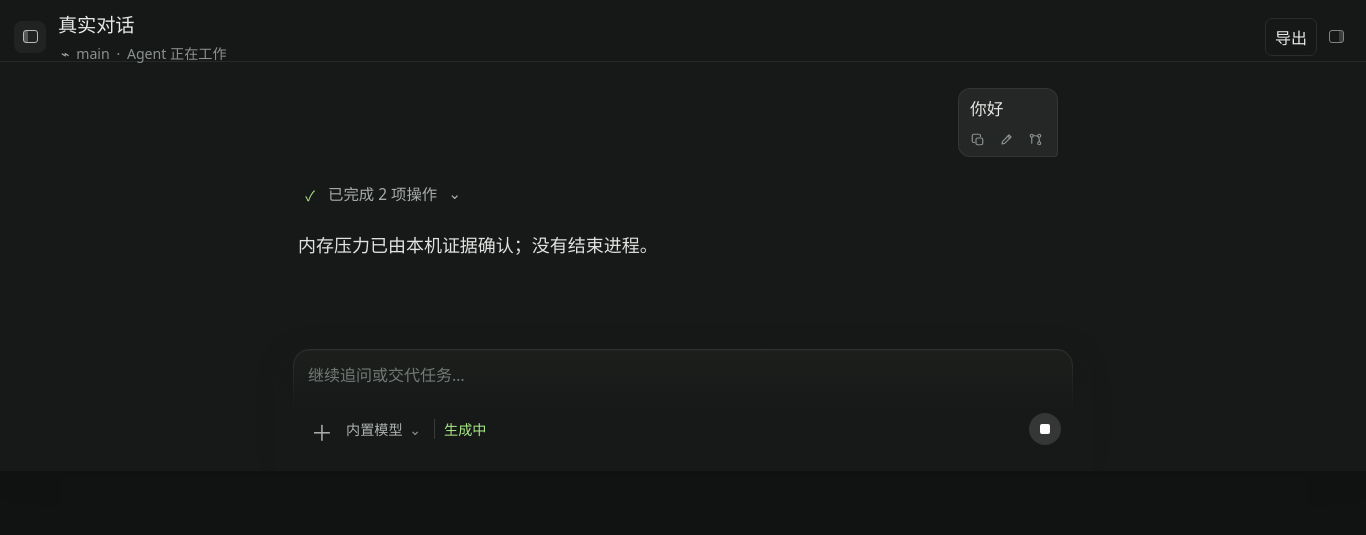
Scenario: conversation timeline projection › renders bounded memory pressure evidence without command lines or paths
Click the button "✓ 已完成 2 项操作 ⌄" at {"x": 384, "y": 194}, box [299,177,468,210]
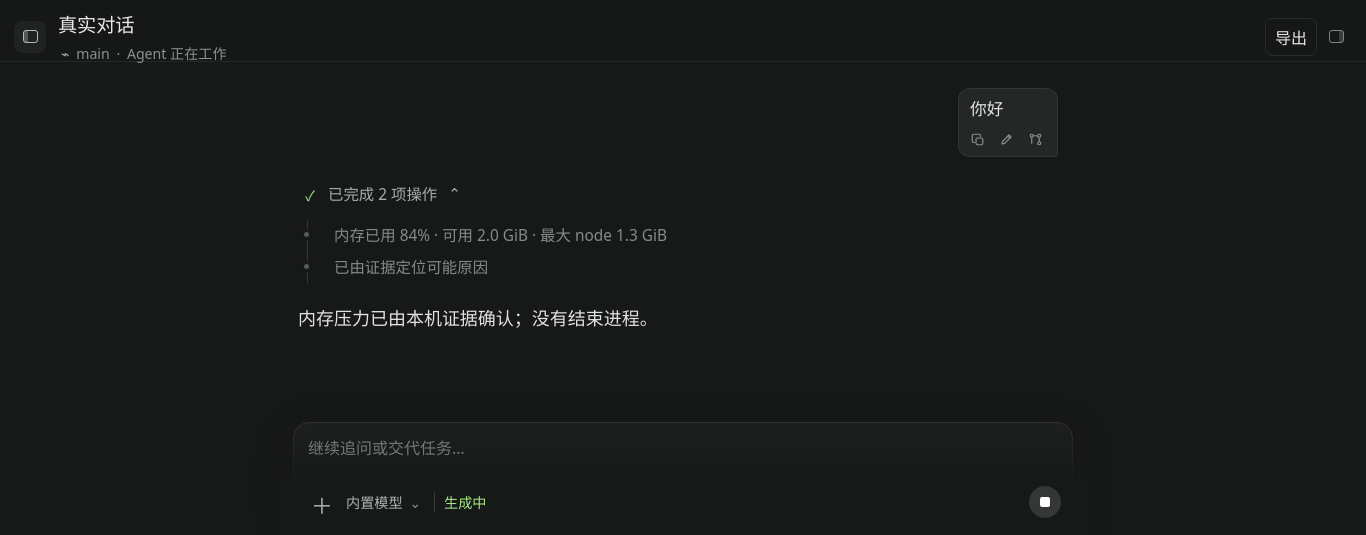
Result: the text "内存已用 84% · 可用 2.0 GiB · 最大 node 1.3 GiB" is shown at [334,225,667,246]
